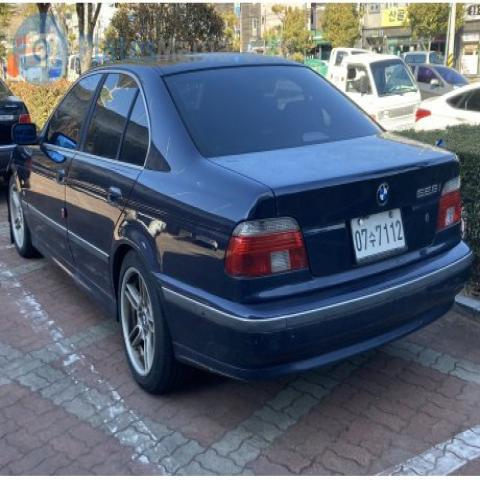LP: (340, 198, 417, 267)
